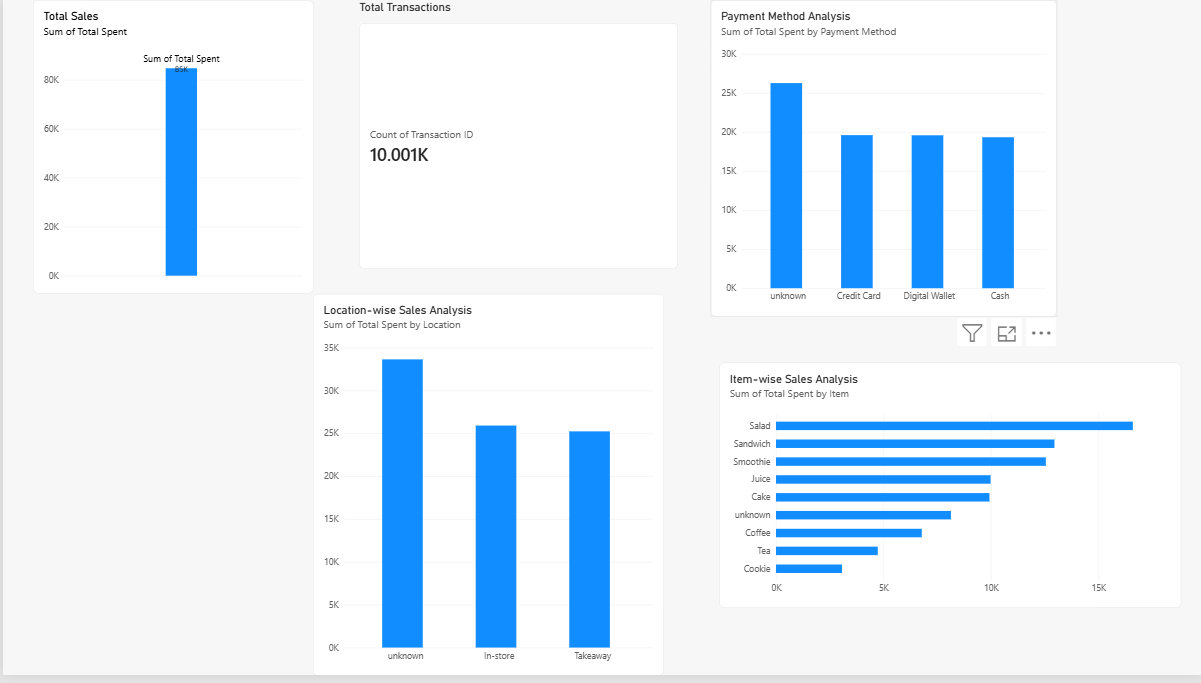

The page's visual inventory and layout, read from the dashboard file:
{"tool":"powerbi","page":{"name":"Page 1","canvas":[1920,1080],"ordinal":0},"visuals":[{"type":"clusteredColumnChart","title":"Total Sales","fields":{"Y":["Sum(cleaned_cafe_sales.Total Spent)"]},"box":[47.3,0,502.2,508.4],"z":0},{"type":"cardVisual","title":"Total Transactions","fields":{"Data":["Count(cleaned_cafe_sales.Transaction ID)"]},"box":[596.9,0,510.5,430.2],"z":1},{"type":"clusteredColumnChart","title":"Payment Method Analysis","fields":{"Category":["cleaned_cafe_sales.Payment Method"],"Y":["Sum(cleaned_cafe_sales.Total Spent)"]},"box":[1218.5,32.9,553.7,506.3],"z":2},{"type":"clusteredBarChart","title":"Item-wise Sales Analysis","fields":{"Category":["cleaned_cafe_sales.Item"],"Y":["Sum(cleaned_cafe_sales.Total Spent)"]},"box":[1167.1,687.5,738.9,393.1],"z":3},{"type":"clusteredColumnChart","title":"Location-wise Sales Analysis","fields":{"Category":["cleaned_cafe_sales.Location"],"Y":["Sum(cleaned_cafe_sales.Total Spent)"]},"box":[570.2,469.3,561.9,611.3],"z":4}]}

Visuals, with their boxes in screenshot pixels (x1, y1, x2, y2), scaled from the page's 1920x1080 canvas onto the 1201x683 screenshot:
"Total Sales" clusteredColumnChart: 30, 0, 344, 322
"Total Transactions" cardVisual: 373, 0, 693, 272
"Payment Method Analysis" clusteredColumnChart: 762, 21, 1109, 341
"Item-wise Sales Analysis" clusteredBarChart: 730, 435, 1192, 682
"Location-wise Sales Analysis" clusteredColumnChart: 357, 297, 708, 682
